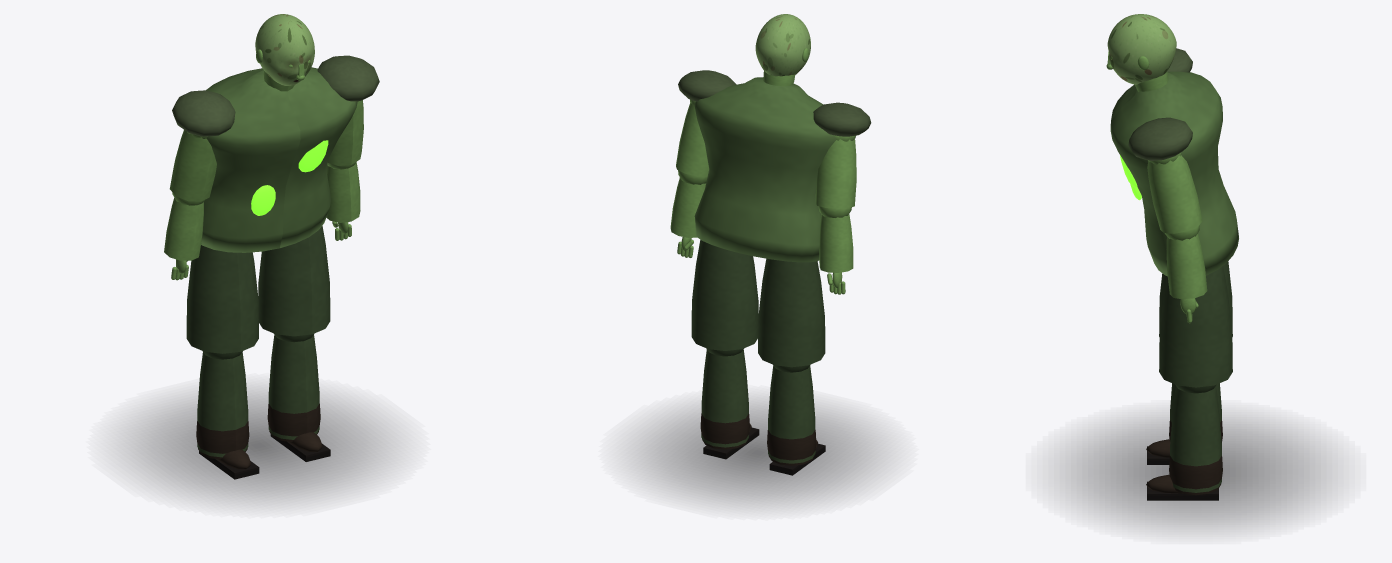
Rendered from enemy_brute.glb.
3 renders of one model, left to right at view 1: azimuth 30°, elevation 25°; view 2: azimuth 150°, elevation 25°; view 3: azimuth 270°, elevation 25°, orthographic. The views are drawn at different scales.
Visible parts, largest first — view 1: chest, object 11, legL, legR, shinL, shinR, head, armL, foreL, foreR, armR; view 2: chest, object 11, legL, legR, shinL, shinR, head, armL, foreL, foreR, armR; view 3: object 11, chest, legR, shinR, head, armR, foreR, shinL, legL.
Boxes of the visible parts, x1=… form: chest: x1=172, y1=55, x2=379, y2=252; object 11: x1=121, y1=388, x2=395, y2=503; legL: x1=186, y1=245, x2=258, y2=353; legR: x1=258, y1=225, x2=330, y2=336; shinL: x1=196, y1=351, x2=259, y2=479; shinR: x1=267, y1=333, x2=330, y2=461; head: x1=255, y1=14, x2=314, y2=85; armL: x1=169, y1=130, x2=216, y2=201; foreL: x1=164, y1=192, x2=205, y2=280; foreR: x1=326, y1=161, x2=360, y2=240; armR: x1=327, y1=100, x2=363, y2=165; chest: x1=678, y1=70, x2=871, y2=262; object 11: x1=631, y1=399, x2=885, y2=506; legL: x1=758, y1=258, x2=825, y2=367; legR: x1=691, y1=239, x2=758, y2=350; shinL: x1=767, y1=364, x2=825, y2=475; shinR: x1=700, y1=348, x2=759, y2=459; head: x1=755, y1=14, x2=810, y2=76; armL: x1=815, y1=135, x2=856, y2=208; foreL: x1=818, y1=206, x2=853, y2=294; foreR: x1=670, y1=170, x2=707, y2=257; armR: x1=676, y1=99, x2=708, y2=176; object 11: x1=1059, y1=415, x2=1332, y2=529; chest: x1=1110, y1=48, x2=1238, y2=276; legR: x1=1159, y1=266, x2=1232, y2=387; shinR: x1=1146, y1=384, x2=1222, y2=500; head: x1=1106, y1=14, x2=1176, y2=84; armR: x1=1147, y1=152, x2=1202, y2=233; foreR: x1=1165, y1=225, x2=1207, y2=323; shinL: x1=1146, y1=383, x2=1222, y2=464; legL: x1=1159, y1=261, x2=1232, y2=336.
Size of the model in its own units: 2.33 by 3.25 by 2.33.
Materials: 7 (4 with a texture image).
